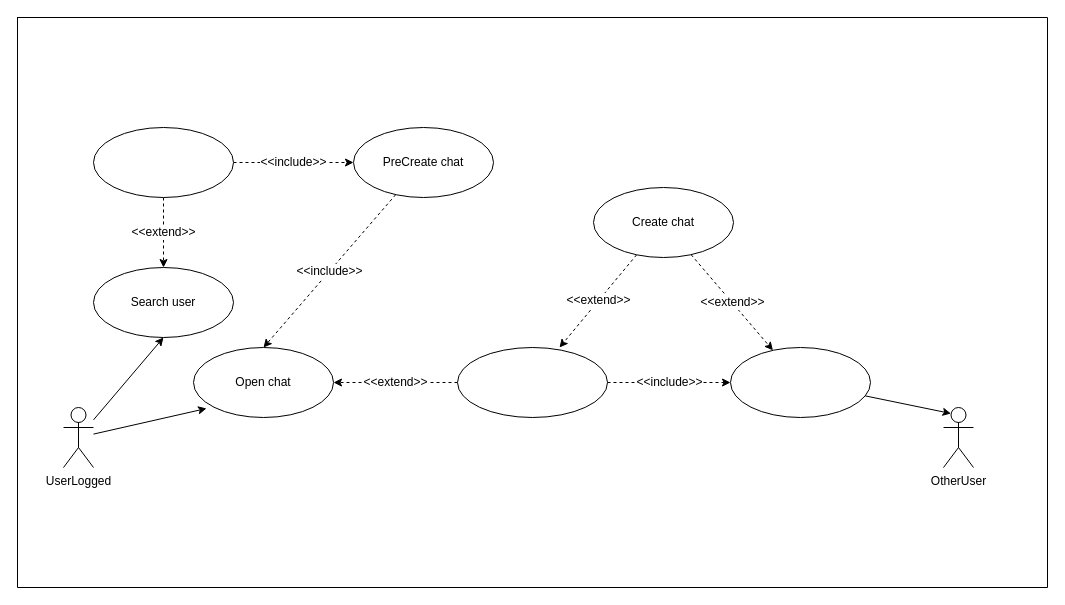
Some shapes in this 1065 by 605 pixel diagram are drawn without their labels. The shapes that lost their labels are listed below. From the top down, each one's centre as x and y in pixels, then its label:
At [163,162]: "Chat with user".
At [532,382]: "Send message".
At [800,382]: "Receive message".
